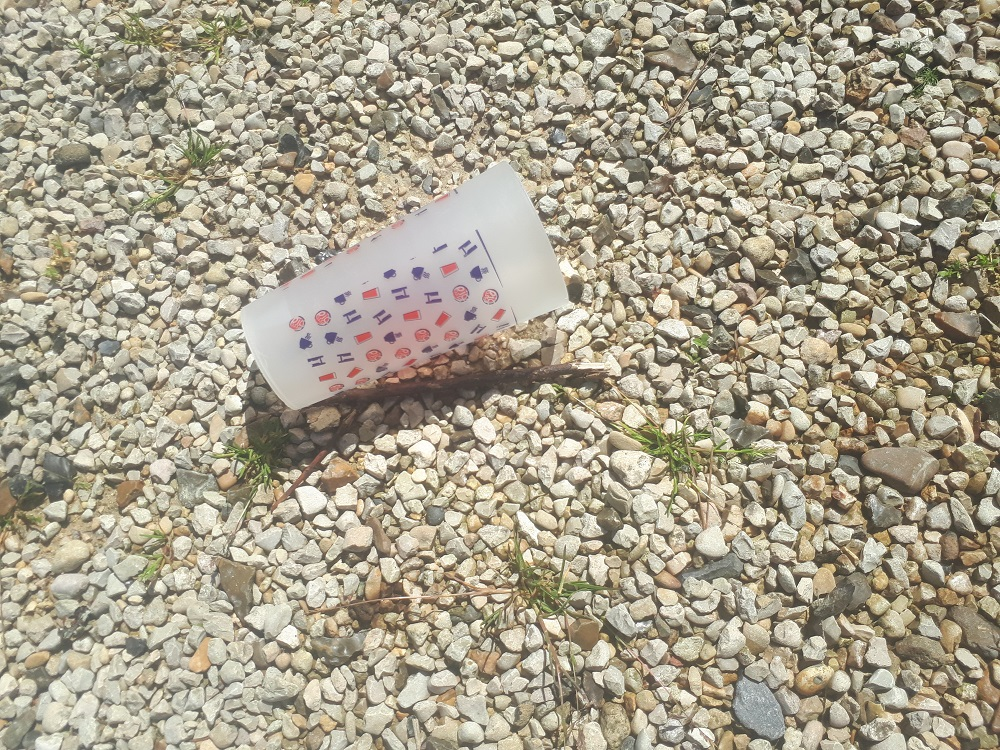ecocup: (237, 159, 574, 414)
